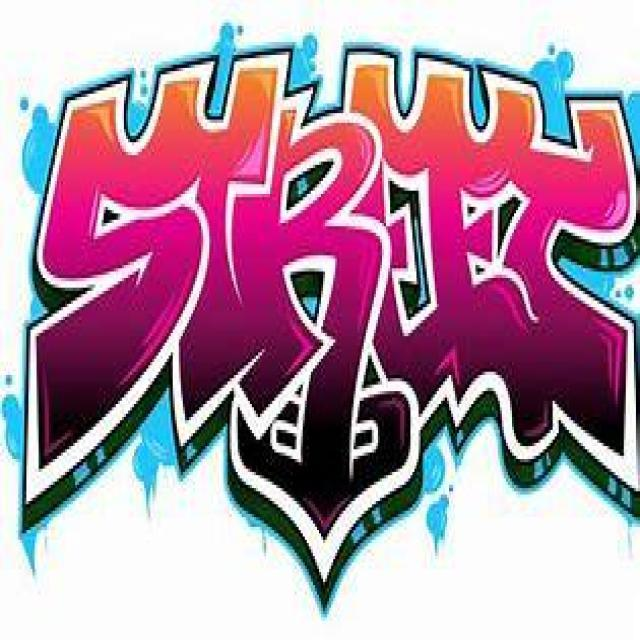nonspitting: (22, 42, 640, 614)
